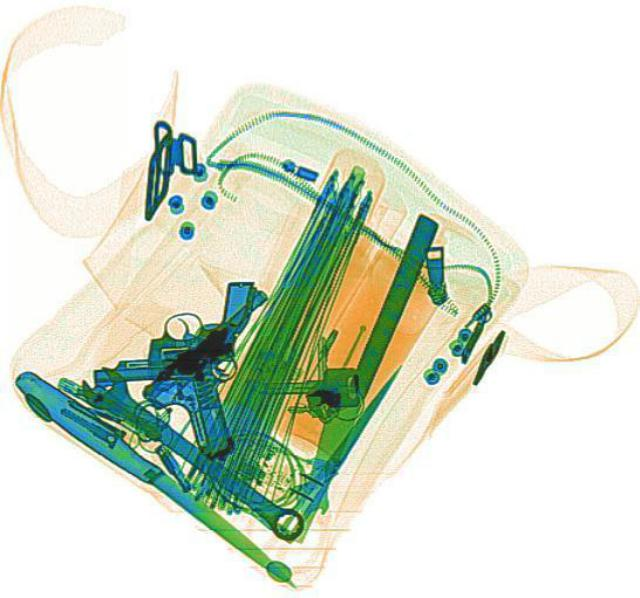Gun: (137, 287, 337, 457), (85, 278, 259, 384)
Knife: (4, 360, 310, 593), (268, 206, 437, 543), (274, 359, 416, 542)
Wrench: (70, 357, 316, 546)
